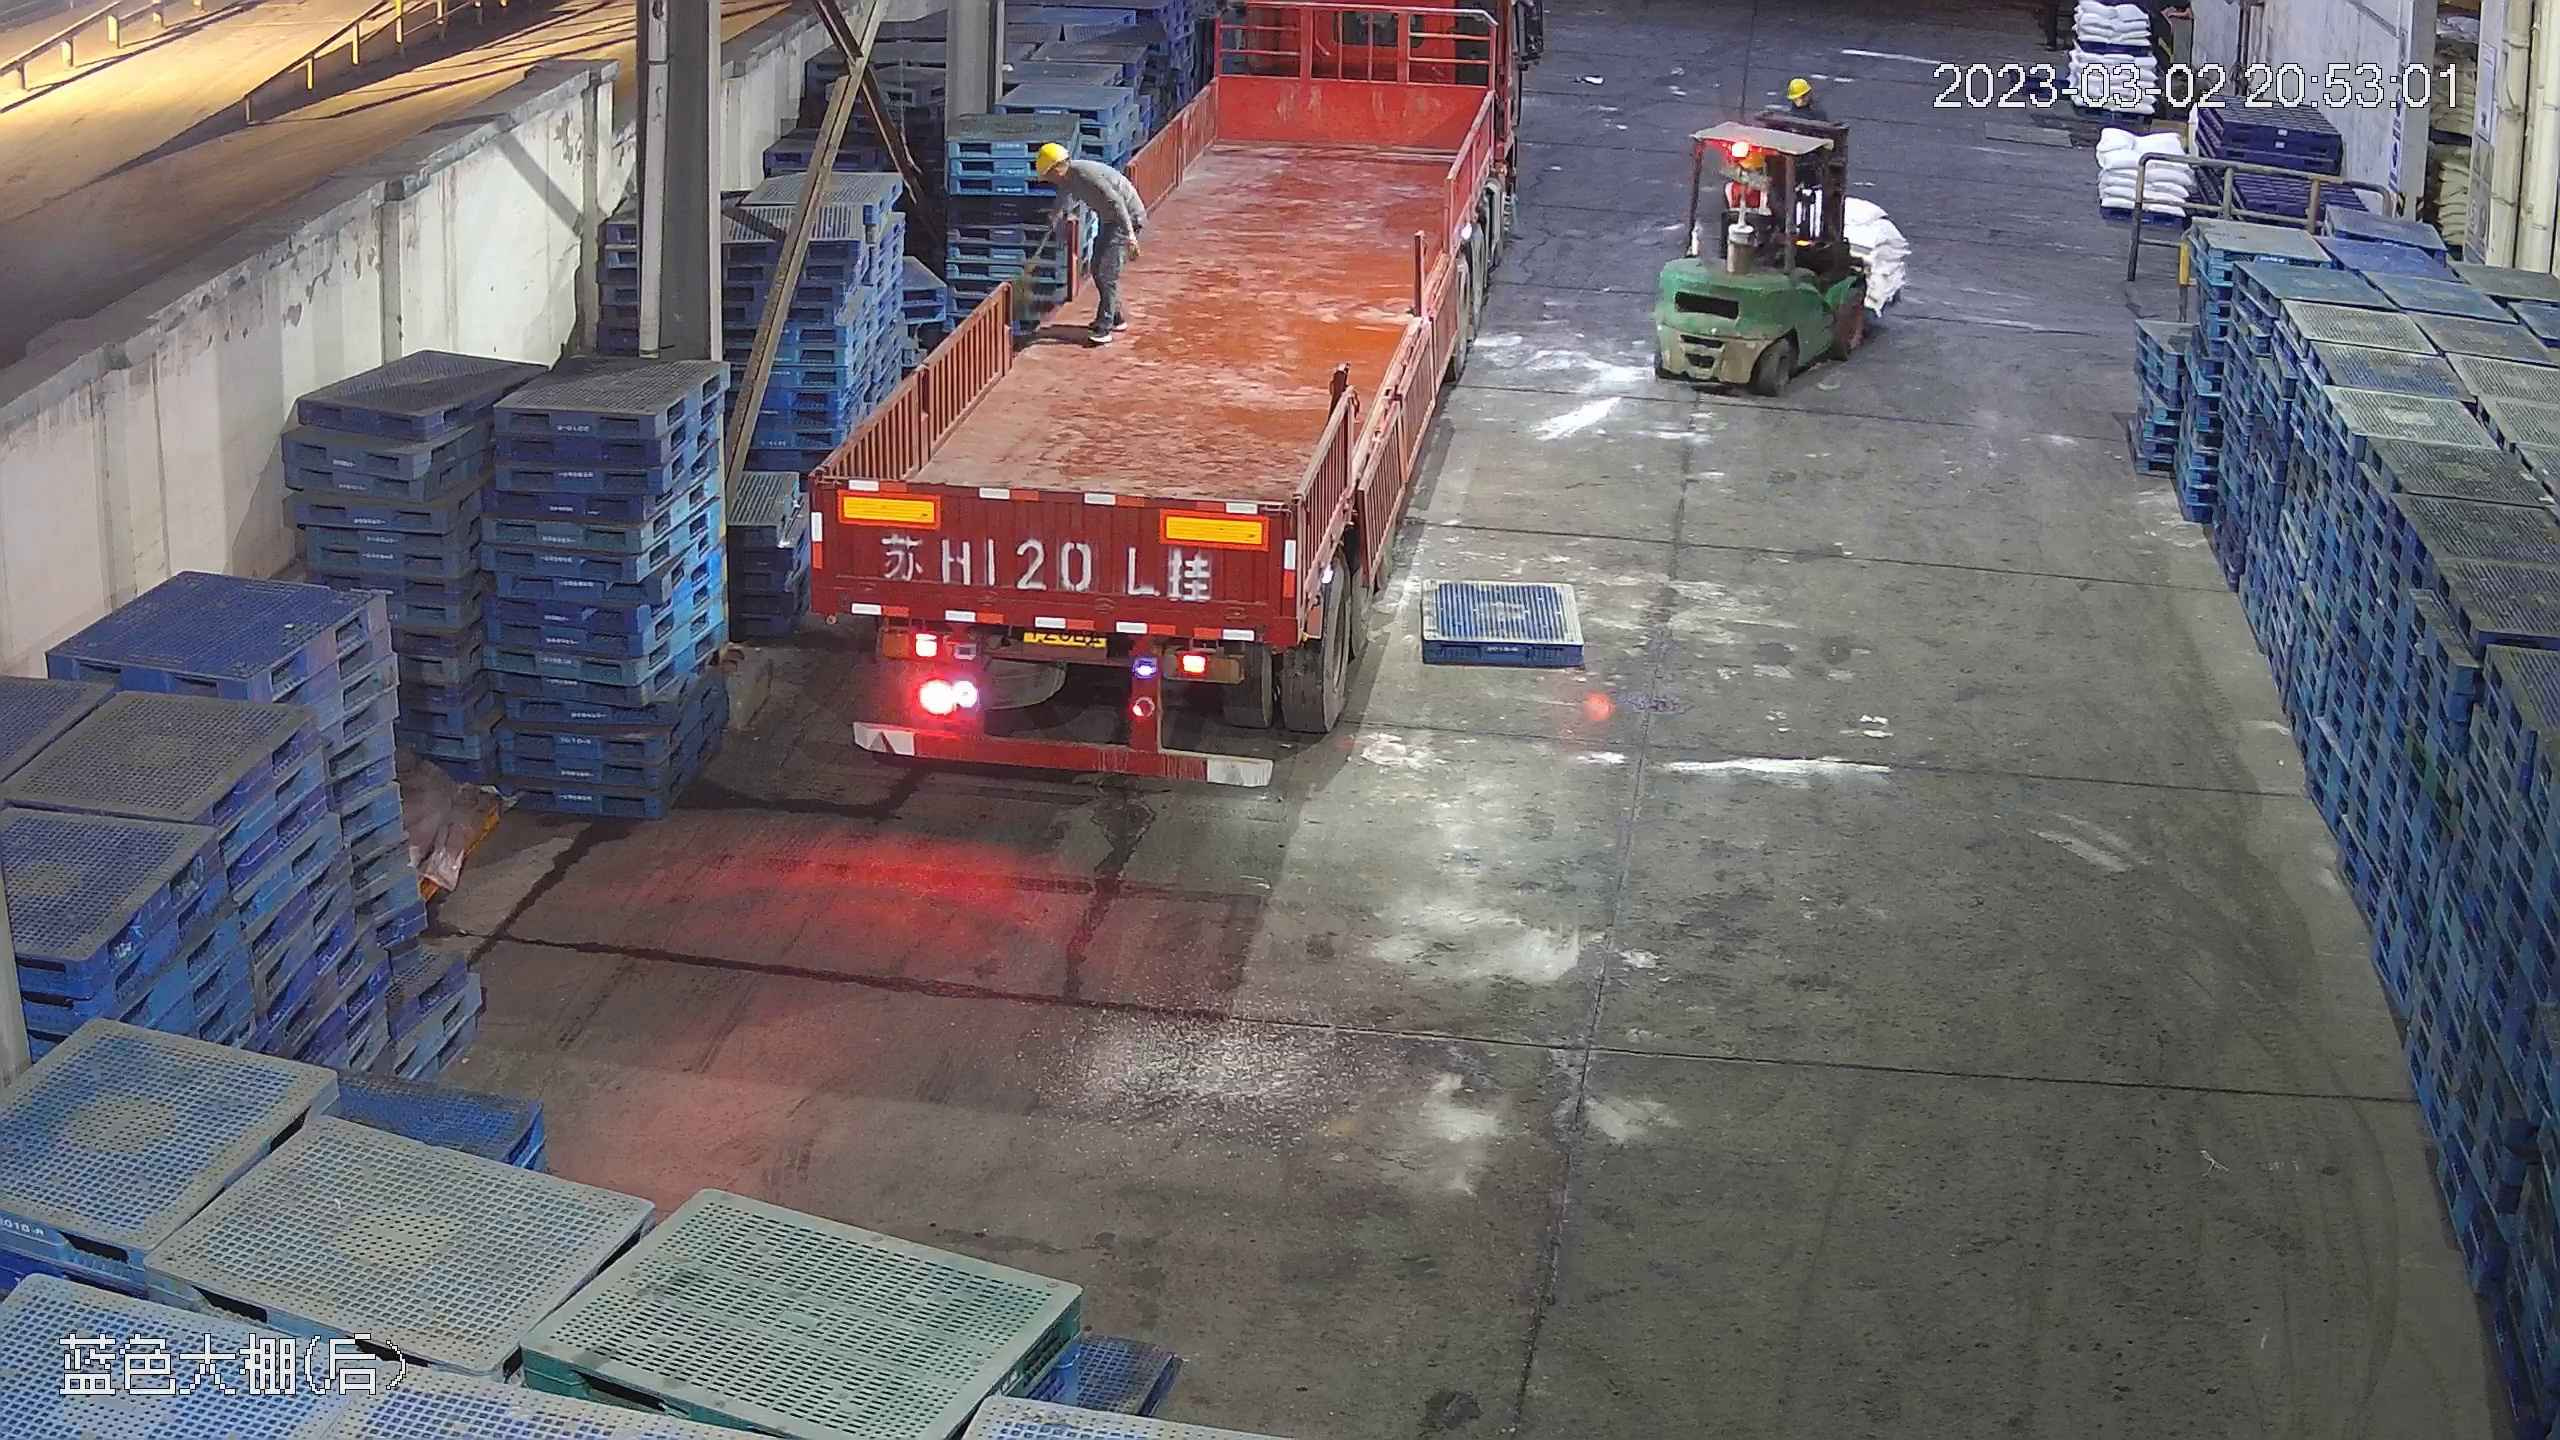head: (1032, 140, 1106, 204)
helmet: (1032, 139, 1067, 174), (1784, 76, 1814, 99)
people: (1028, 136, 1144, 341)
truck: (783, 1, 1552, 786)
